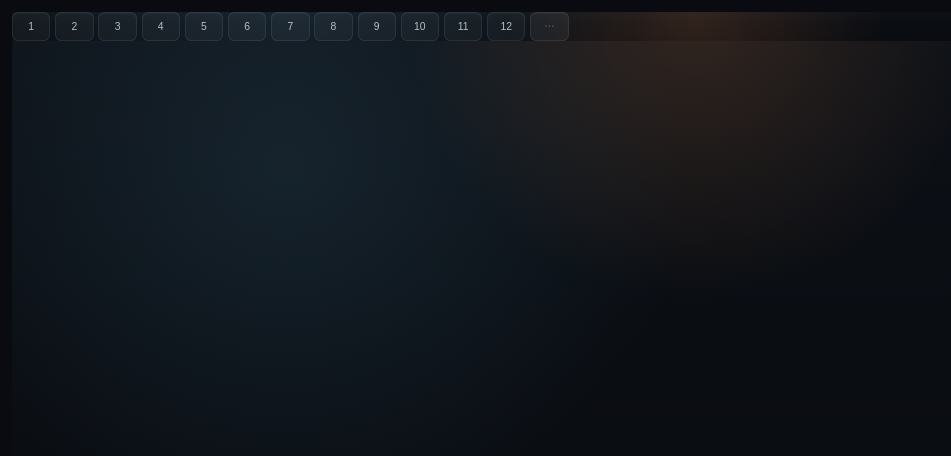
it: EpisodeGrid › expands to show all episodes when more button is clicked
This screenshot has width=951, height=456.
Click the button with class "episode-chip-more": click(550, 26) [530, 12, 569, 41]
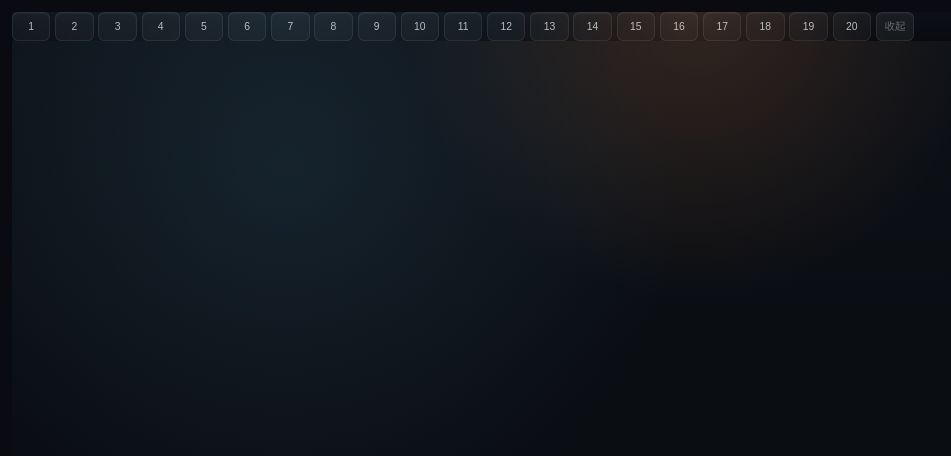
Now the button with class "episode-chip-collapse" is shown, box [876, 12, 914, 41]
